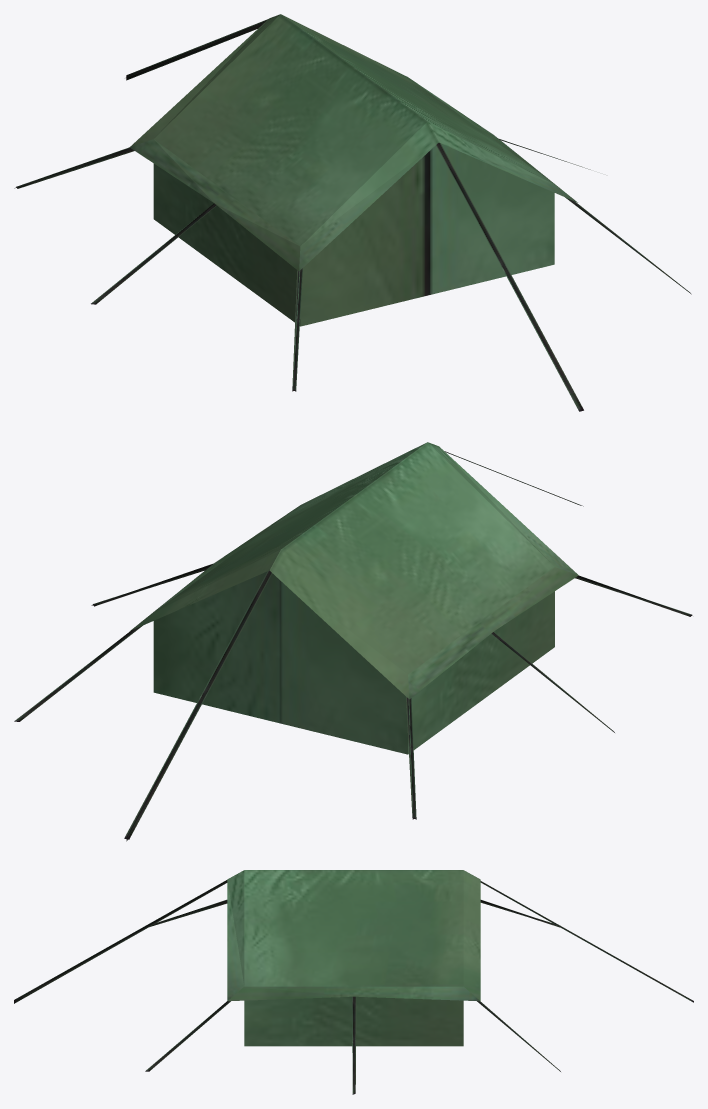
Rendered from Tent02GA.obj.
3 renders of one model, top to bottom at view 1: azimuth 30°, elevation 25°; view 2: azimuth 150°, elevation 25°; view 3: azimuth 270°, elevation 25°, orthographic. The views are drawn at different scales.
Visible parts, largest first — view 1: Tent02GA; view 2: Tent02GA; view 3: Tent02GA.
Part boxes in pixels (<box>): Tent02GA: <box>14,14,691,411</box>; Tent02GA: <box>14,442,692,841</box>; Tent02GA: <box>14,870,693,1094</box>.
Bounding box in the file's own units: 9.29 × 3.03 × 13.96.
